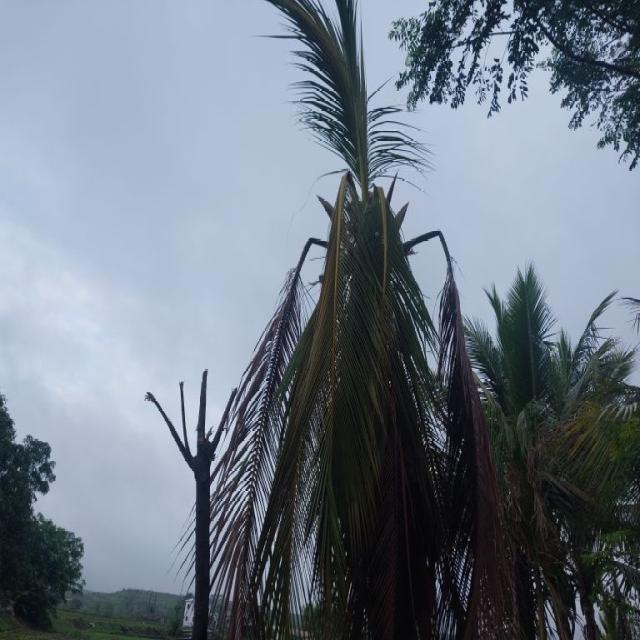bud root dropping: (211, 0, 512, 638)
